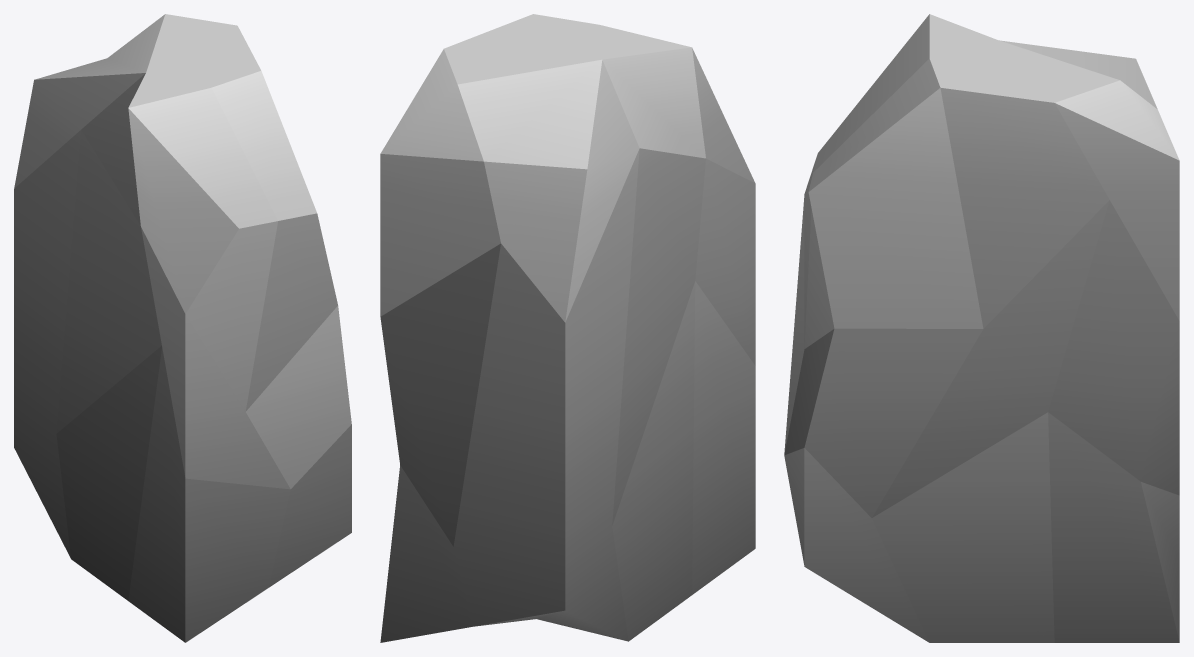
The model's file is rock_05.fbx.
3 renders of one model, left to right at view 1: azimuth 30°, elevation 25°; view 2: azimuth 150°, elevation 25°; view 3: azimuth 270°, elevation 25°, orthographic. The views are drawn at different scales.
Visible parts, largest first — view 1: rock_05; view 2: rock_05; view 3: rock_05.
Part boxes in pixels (x1,y1,x2,y2): rock_05: (14, 14, 351, 642); rock_05: (380, 14, 755, 642); rock_05: (784, 14, 1179, 642).
Bounding box in the file's own units: 60.04 × 170 × 113.
